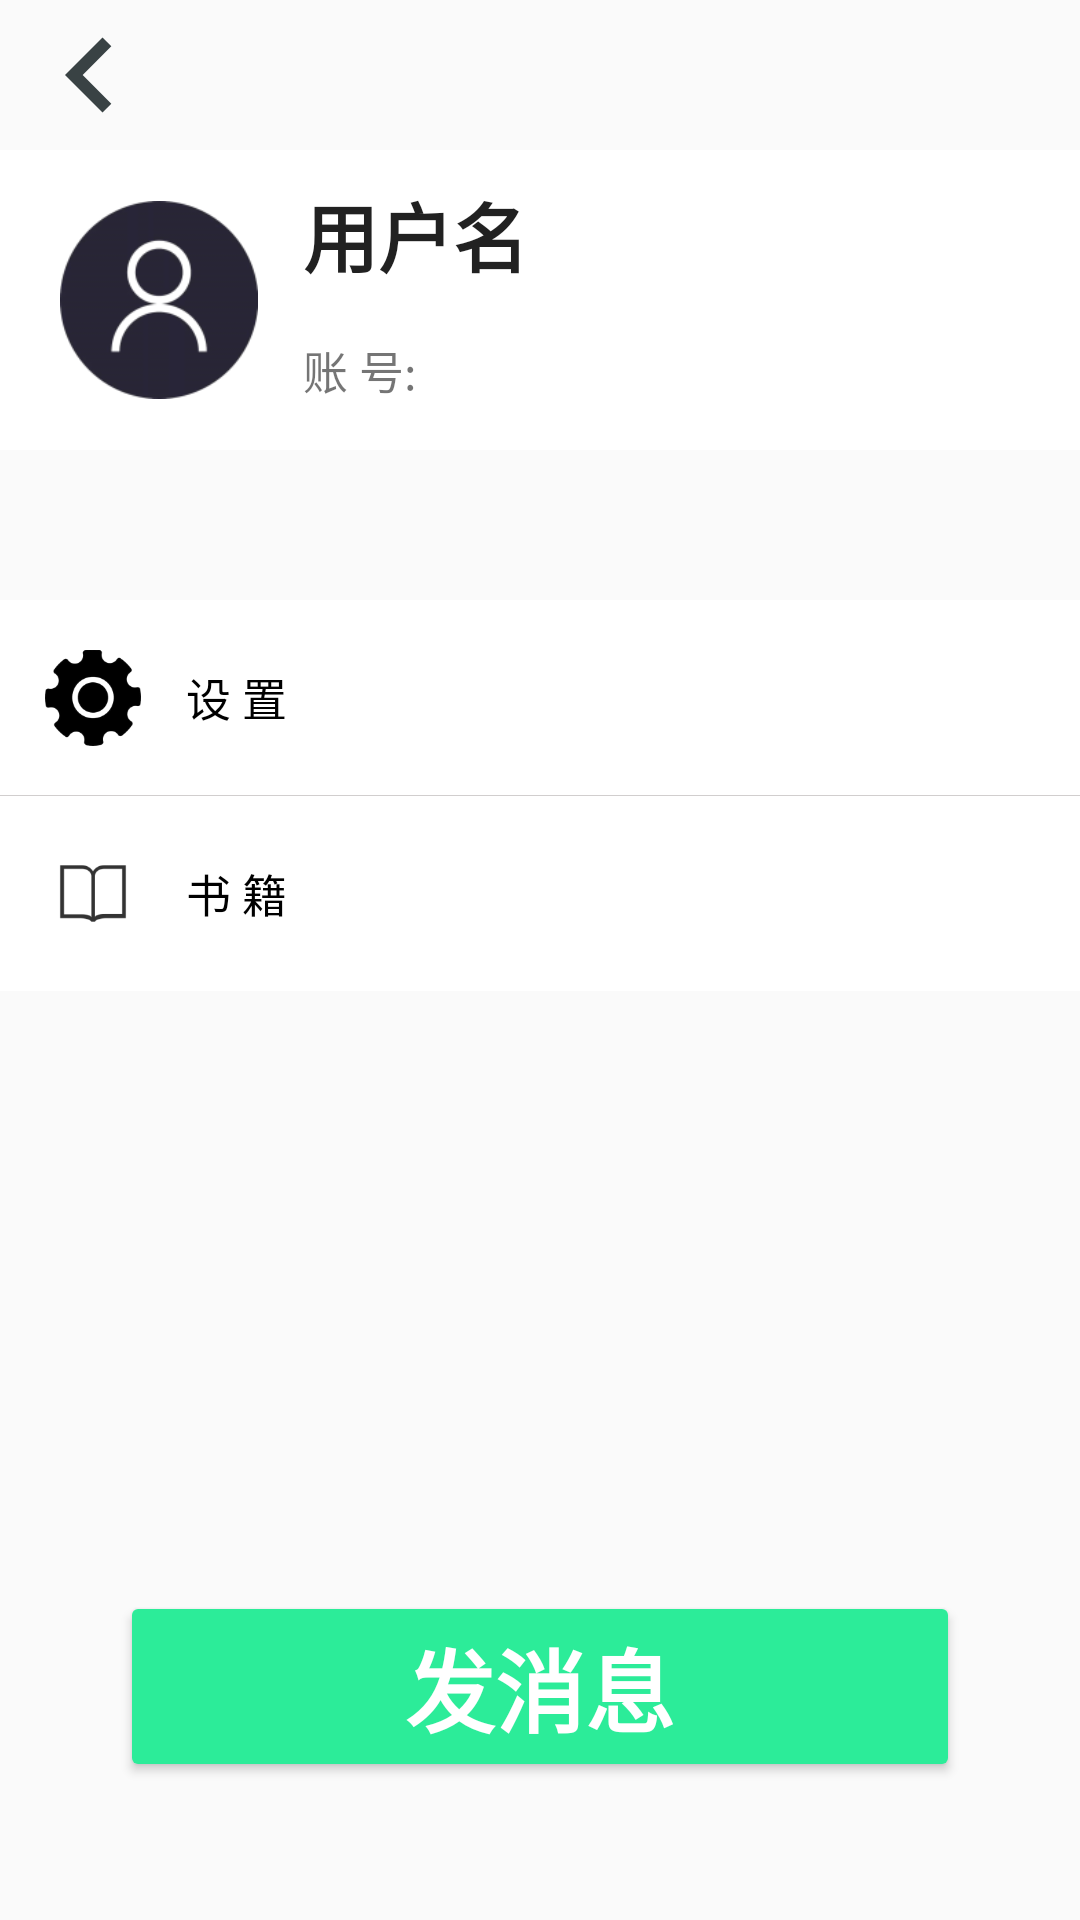

Point at icon controls on the screen. Image size 1080px x 1920px, points as [x,y].
arrow left: [88,75]
setting: [93,698]
shuji: [93,893]
user: [159,300]
